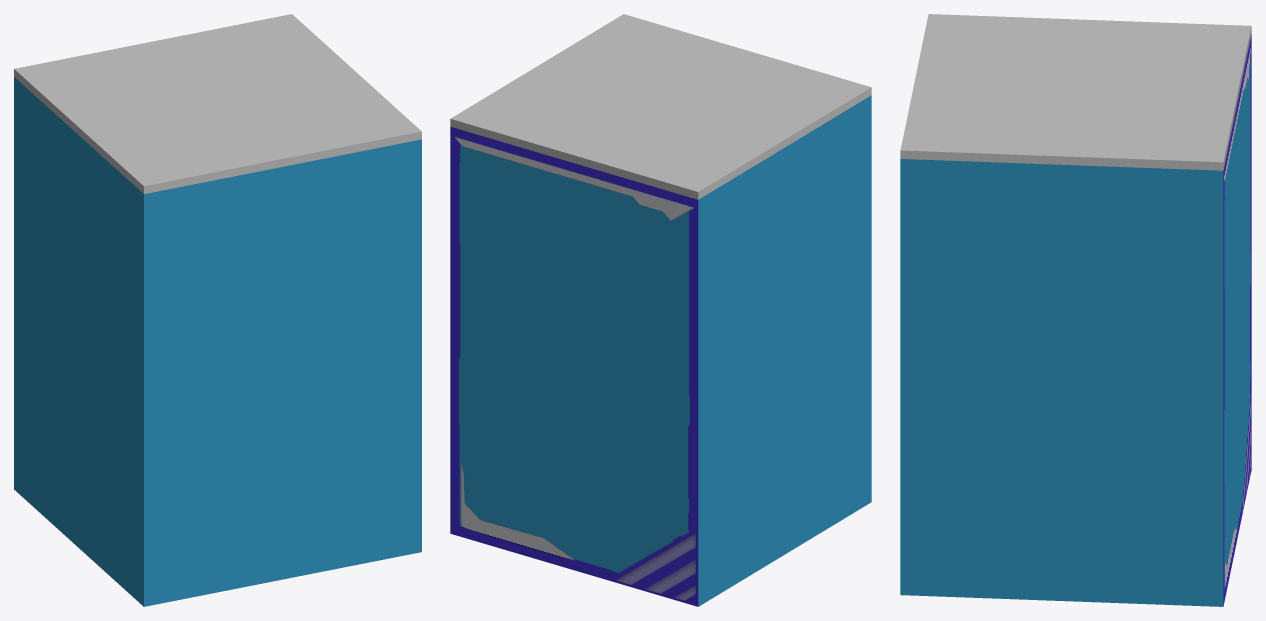
File: podium_blue2.fbx
3 renders of one model, left to right at view 1: azimuth 30°, elevation 25°; view 2: azimuth 150°, elevation 25°; view 3: azimuth 270°, elevation 25°, orthographic. The views are drawn at different scales.
Visible parts, largest first — view 1: Cube.003; view 2: Cube.003; view 3: Cube.003.
Boxes of the visible parts, x1,y1,x2,y2 form: Cube.003: (14, 14, 421, 606); Cube.003: (450, 14, 871, 606); Cube.003: (900, 14, 1251, 606).
Size of the model in its own units: 2.17 by 3.03 by 2.17.
